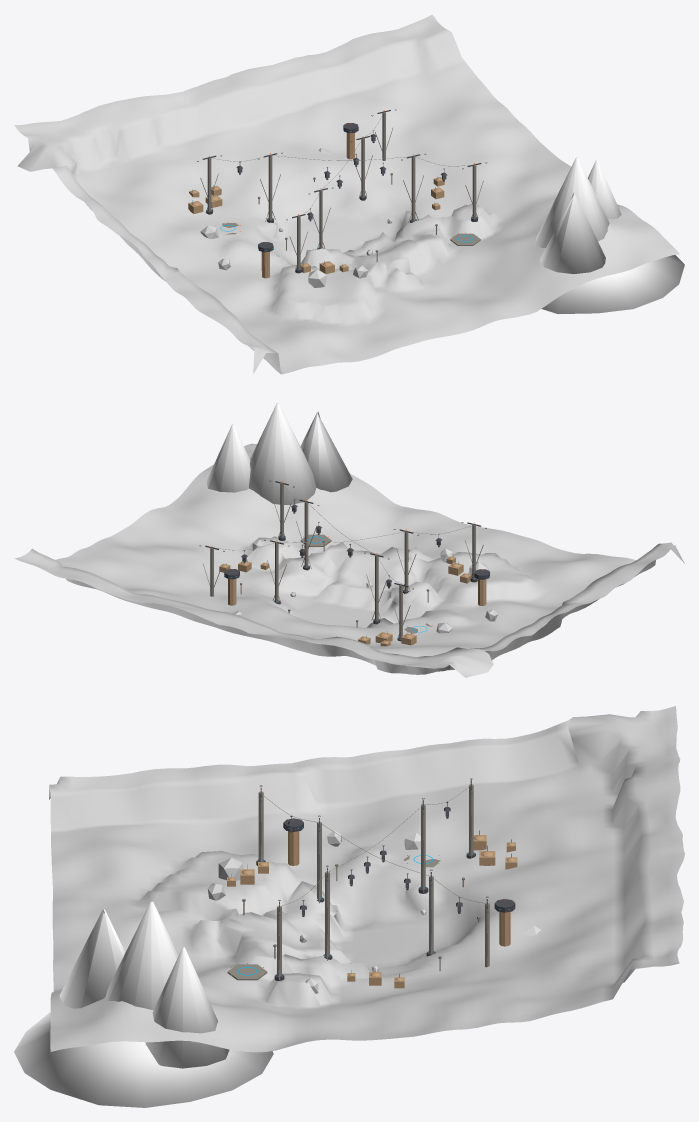
The model's file is mapaxd.glb.
3 views of the same model, one above another, from view 1: azimuth 30°, elevation 25°; view 2: azimuth 150°, elevation 25°; view 3: azimuth 270°, elevation 25° (orthographic). The views are drawn at different scales.
Parts seen in each view (by area): view 1: Illimani_Base; view 2: Illimani_Base, TwS_L1_T3.001; view 3: Illimani_Base, OPD_NE, OPB_SW.
Part boxes in pixels (<box>): Illimani_Base: <box>14,15,684,374</box>; Illimani_Base: <box>14,403,684,677</box>; TwS_L1_T3.001: <box>293,499,319,570</box>; Illimani_Base: <box>14,706,684,1107</box>; OPD_NE: <box>494,899,515,946</box>; OPB_SW: <box>283,818,303,865</box>.
Size of the model in its own units: 89.52 by 20.71 by 83.93.
